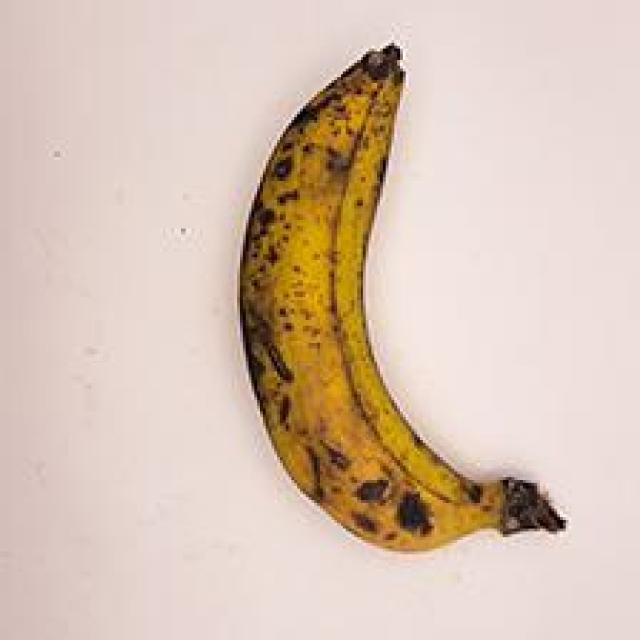Overripe: (190, 15, 574, 594)
